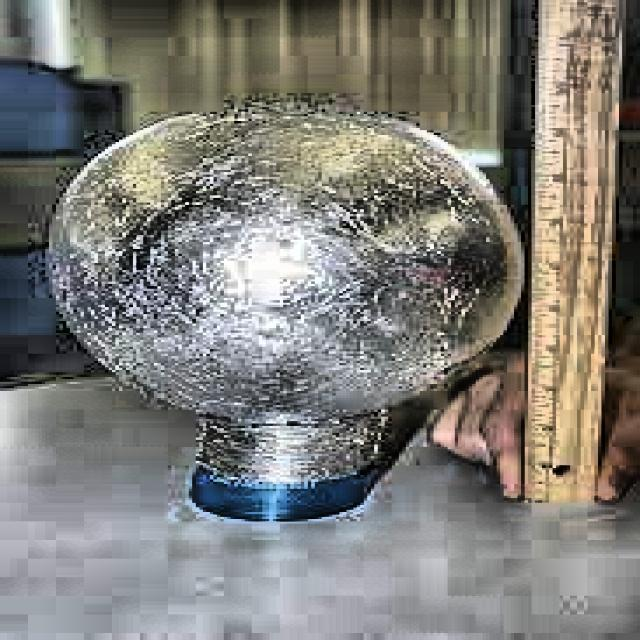Foil: (19, 56, 534, 484)
